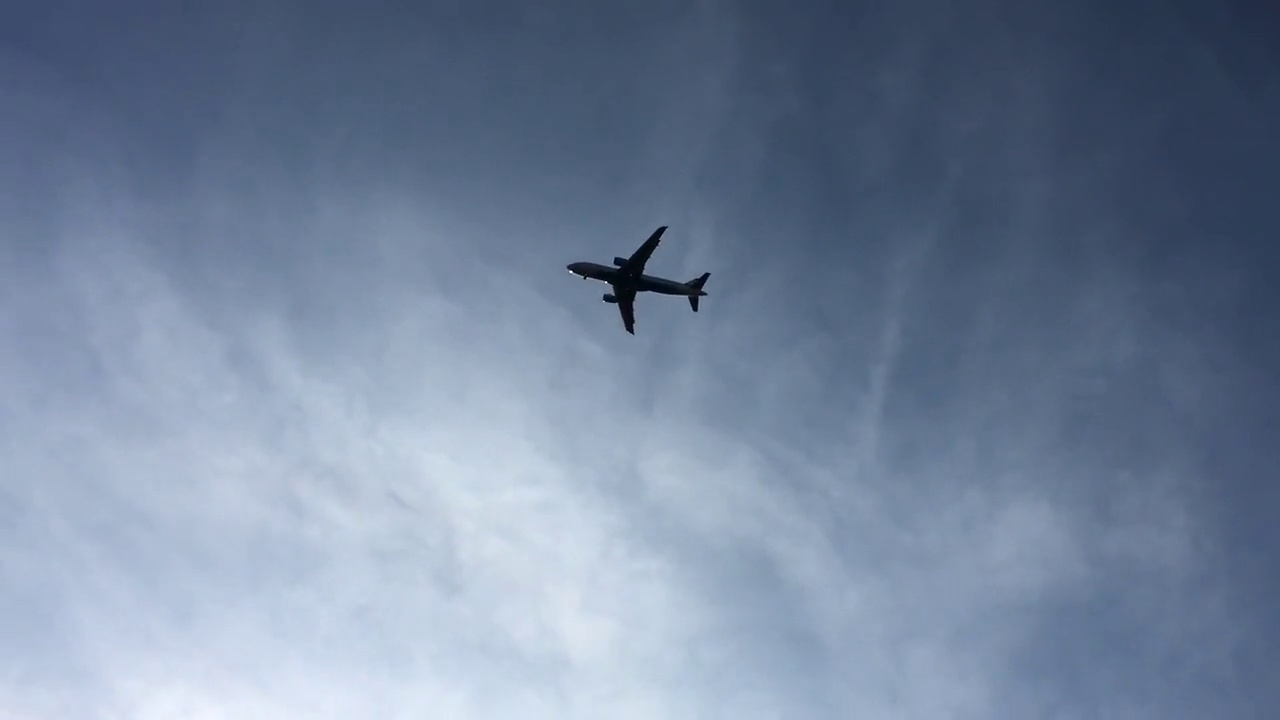plane: (566, 223, 710, 336)
